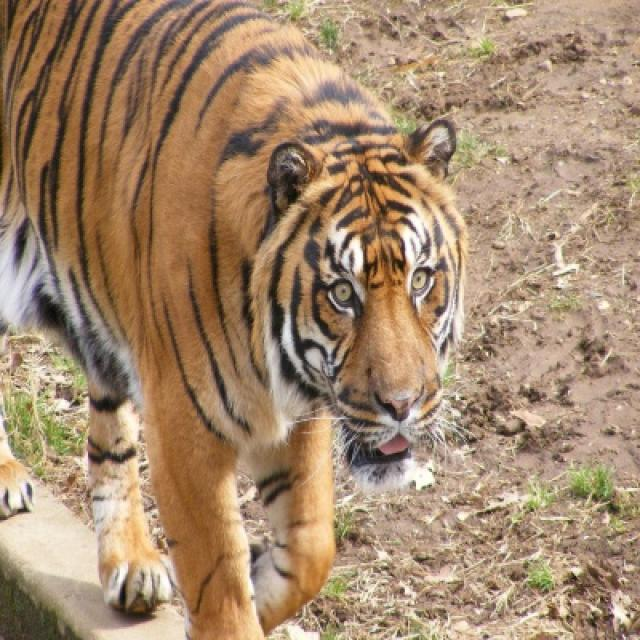Tiger: (0, 0, 466, 638)
